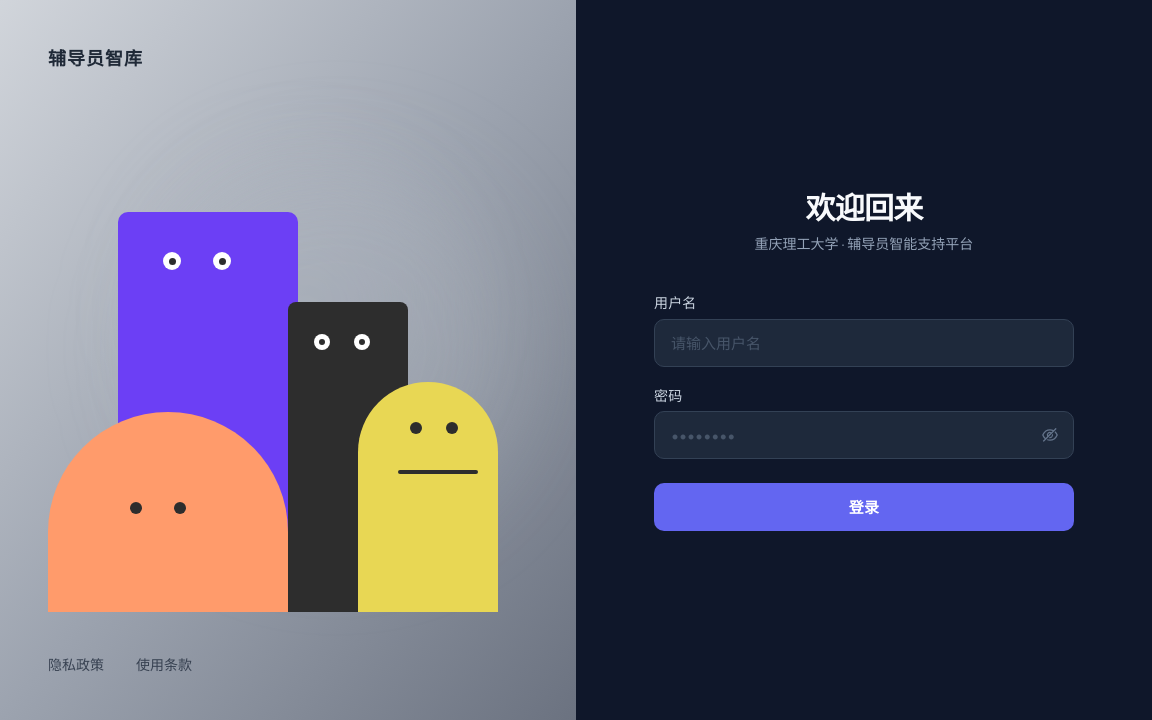
Scenario: Login › should show error when username is empty
The image size is (1152, 720).
Step 1. Click the button "登录" → x=864, y=507, box [654,483,1074,531]
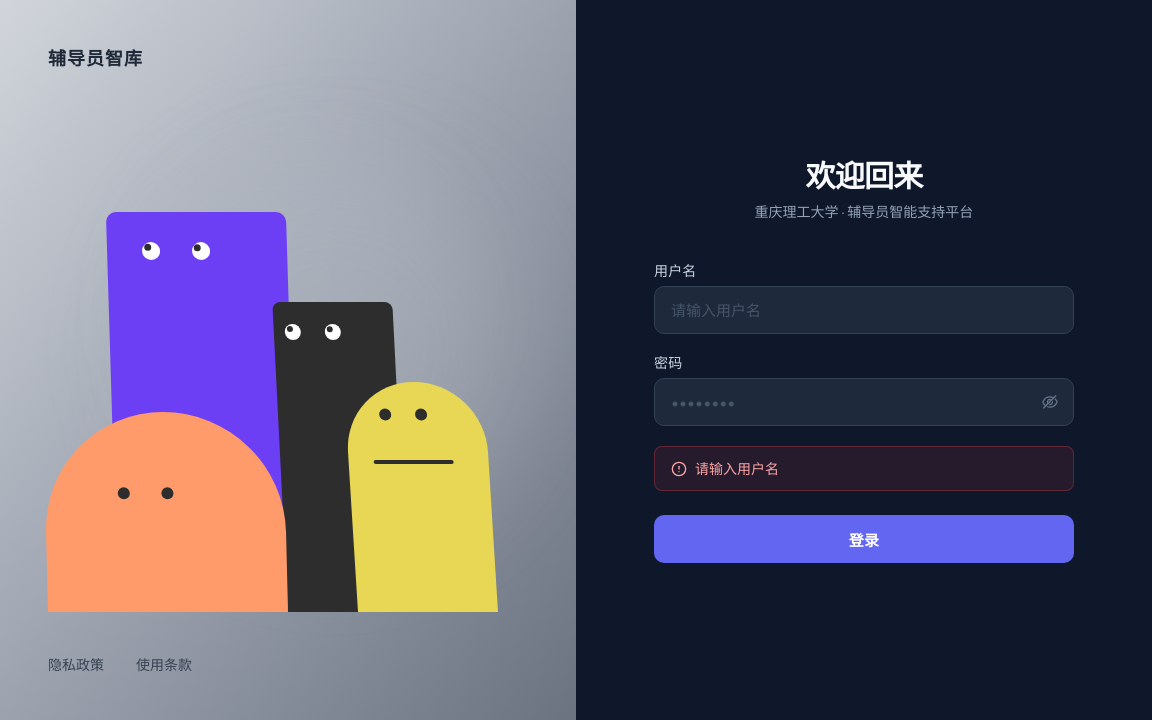
Expected: the message reads "请输入用户名", [695,459,779,477]
